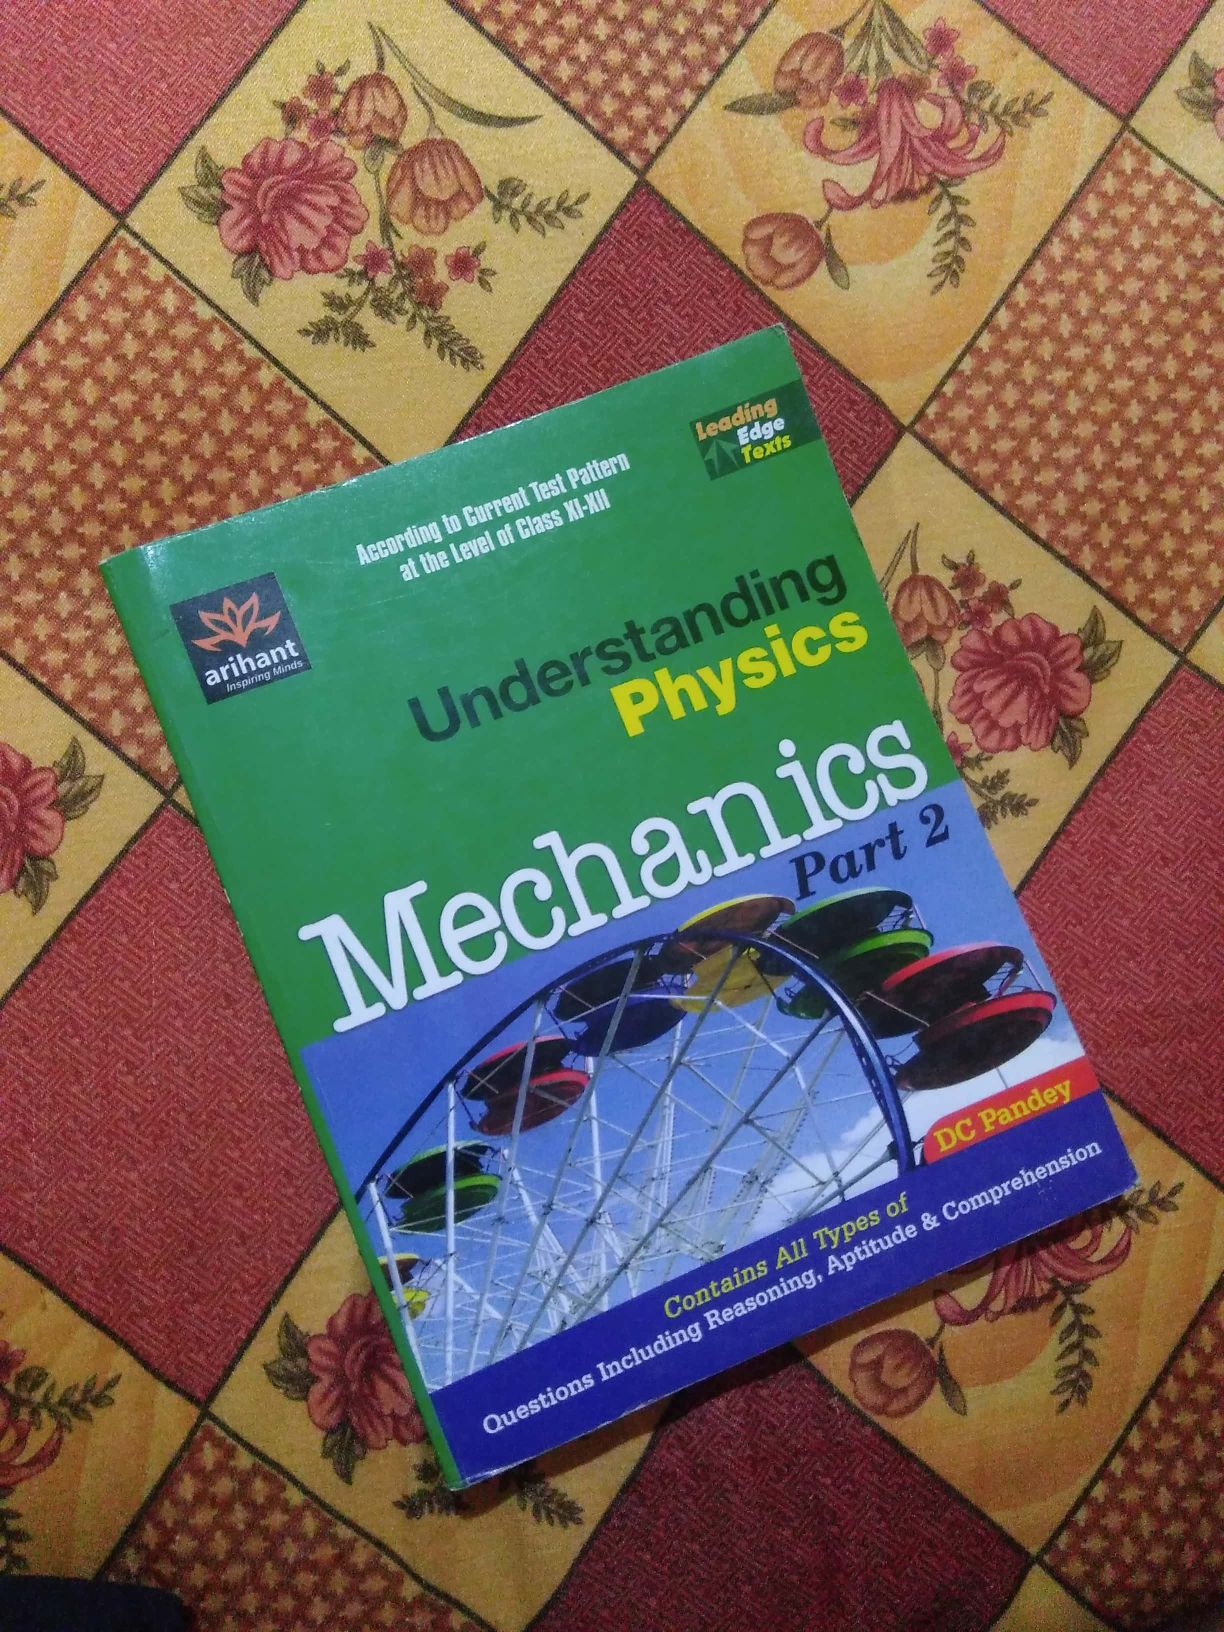mechanics: (59, 400, 1207, 1451)
